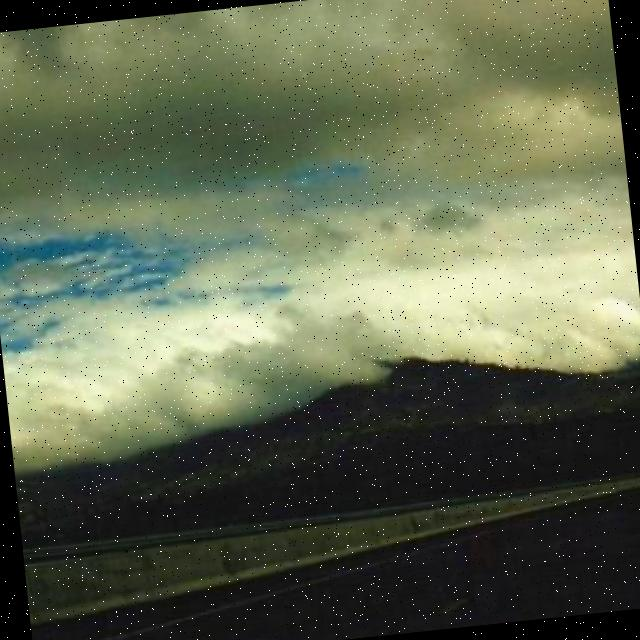Sc: (1, 1, 640, 423)
